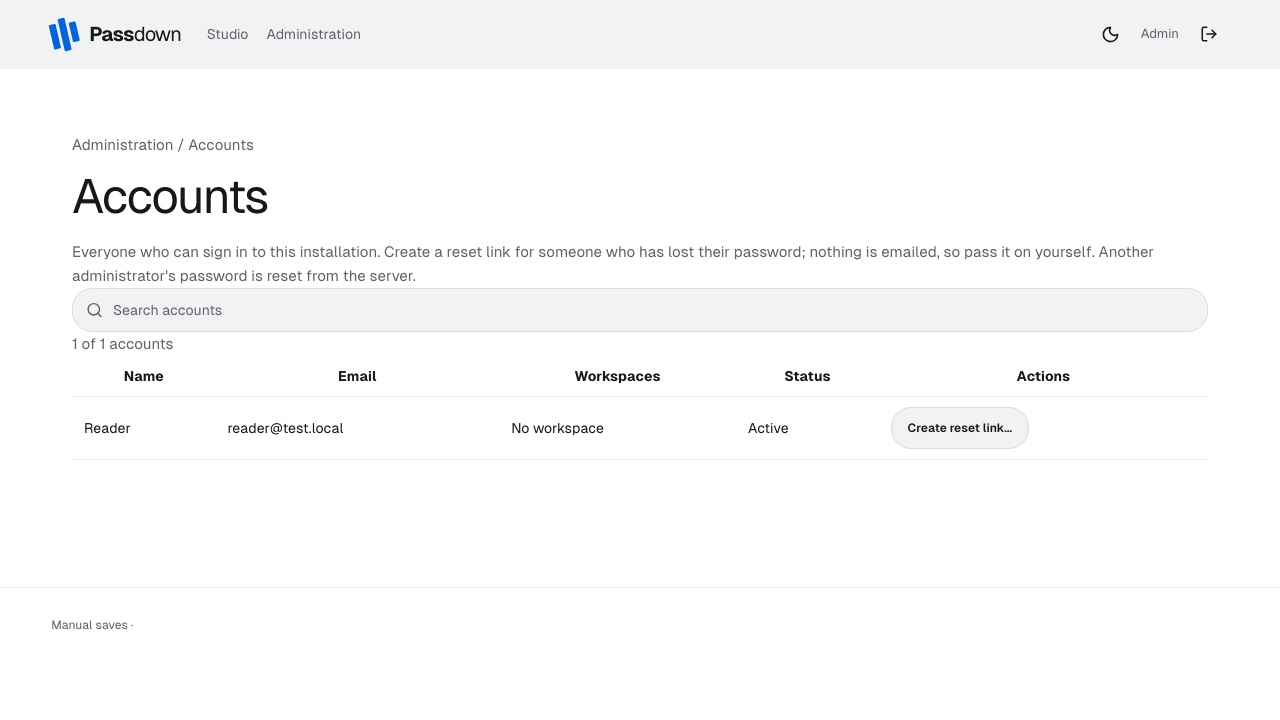
Test: shows a reset link once and removes it when cancelled
The width and height of the screenshot is (1280, 720).
Click the button with aria-label "Create reset link for Reader" at point(960, 428), box [891,407,1029,449]
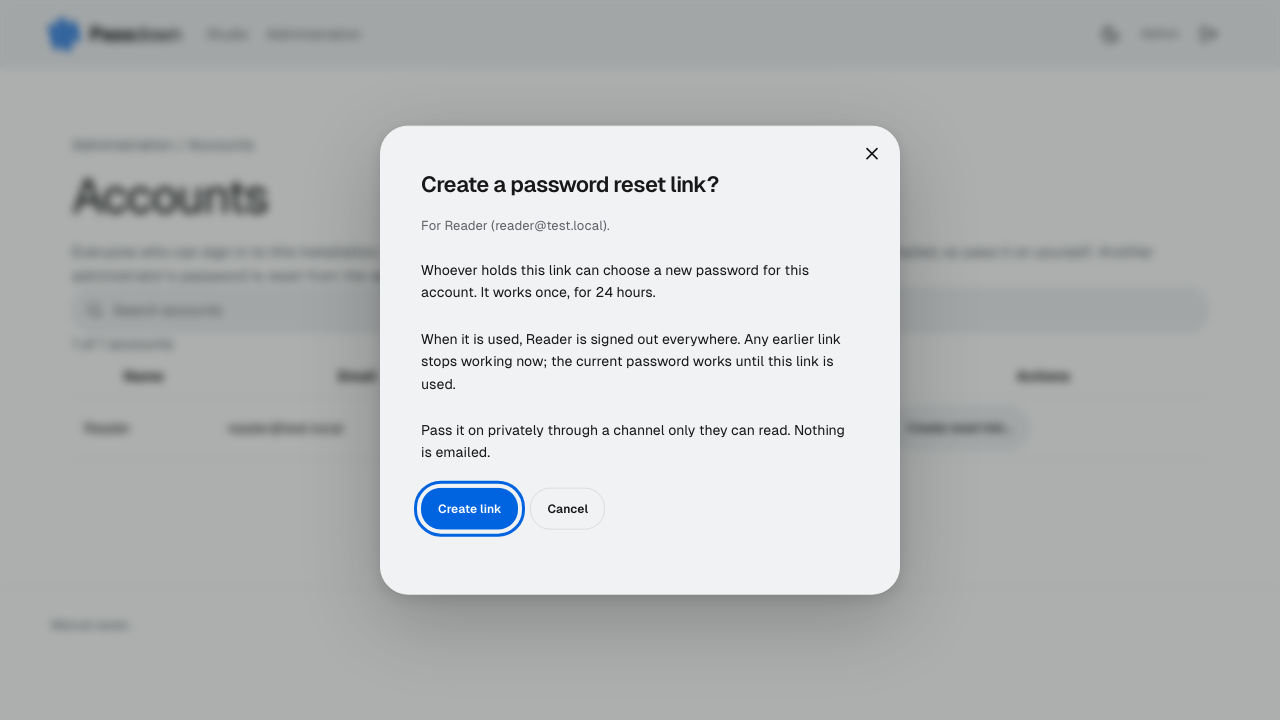
Click the button "Create link" at point(470, 508), box [421,487,518,529]
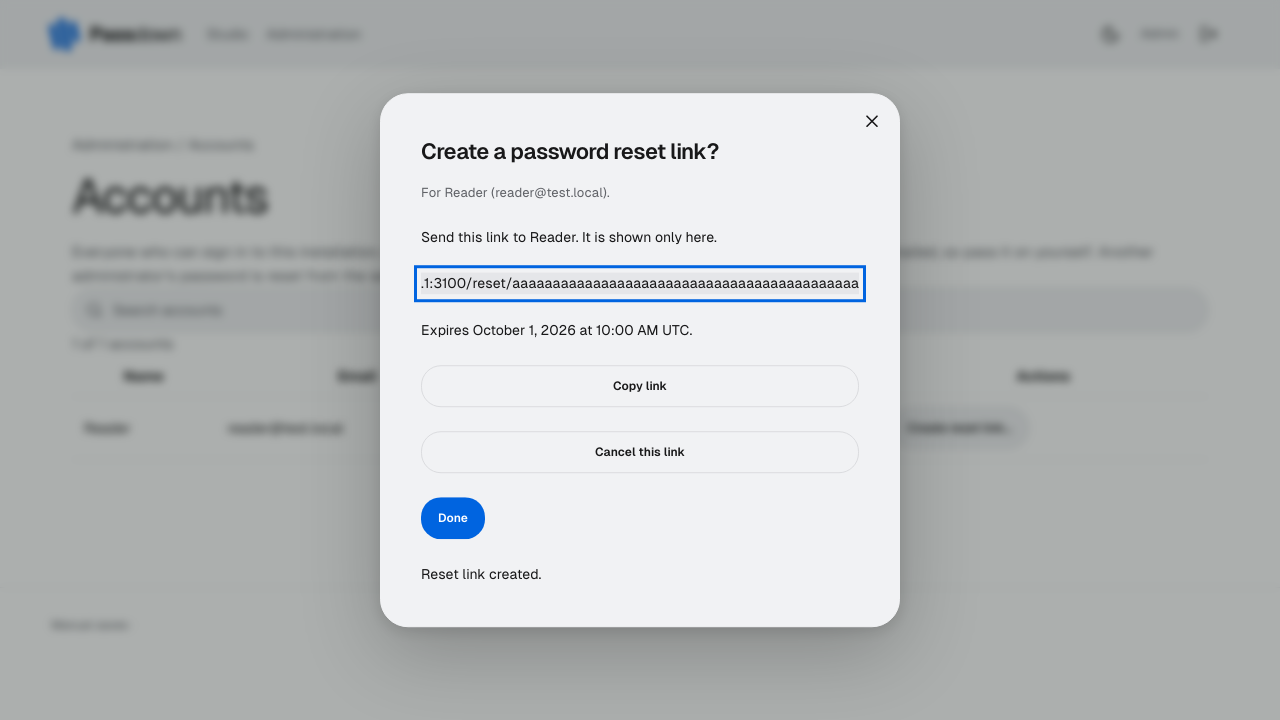
Result: the field named "Reset link for Reader" is shown at [421,273,859,295]
Click the button "Copy link" at point(640, 386), box [421,365,859,407]
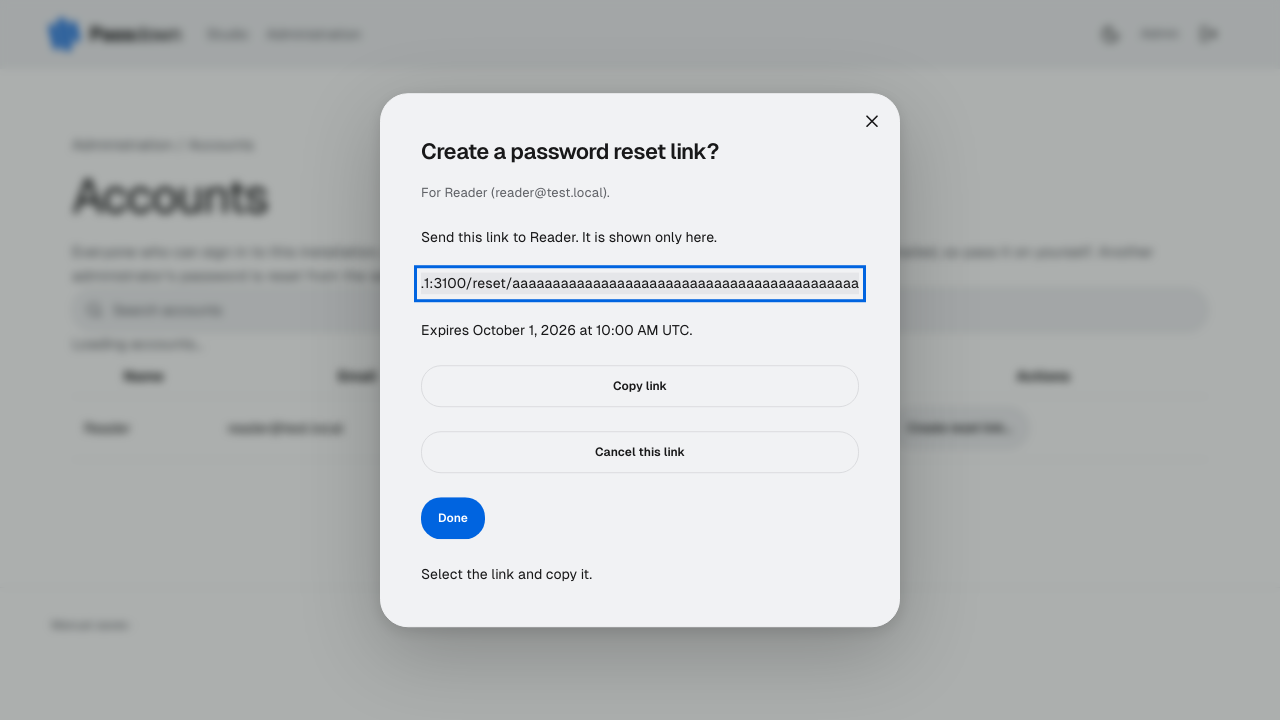
Result: the text "Select the link and copy it." is shown at [421,566,592,582]
Click the button "Cancel this link" at point(640, 452), box [421,431,859,473]
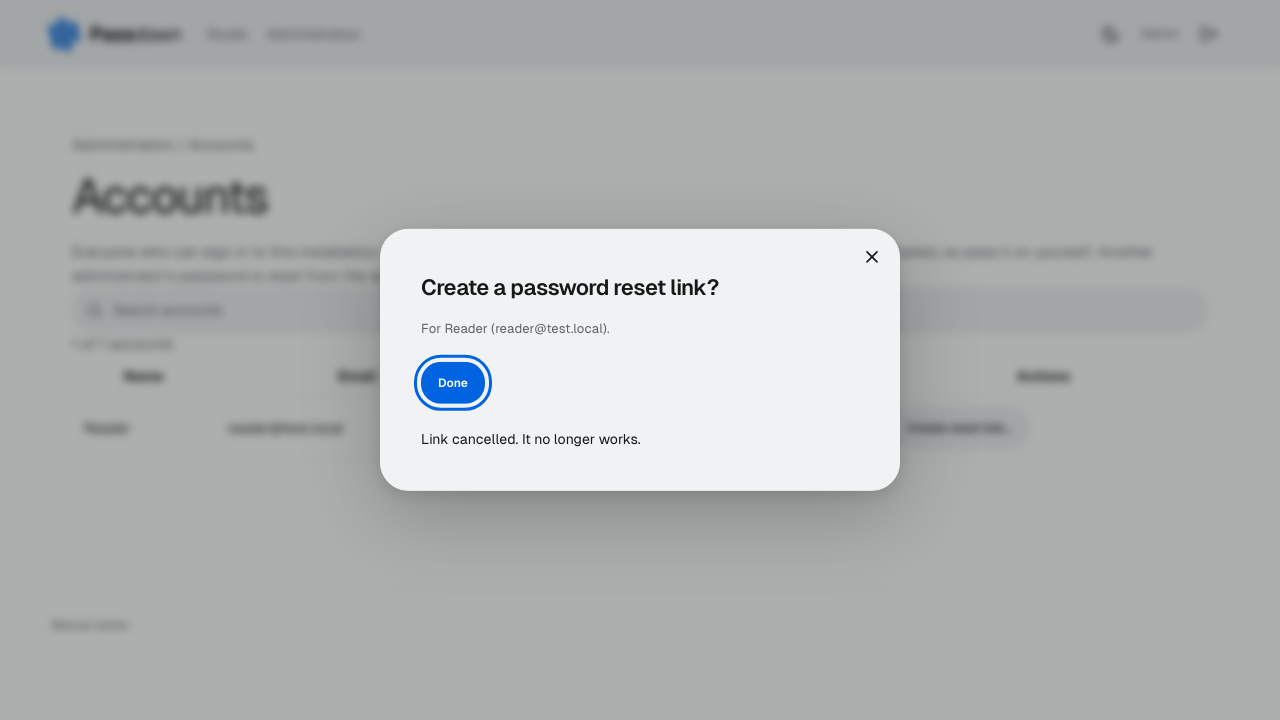
Result: the text "Link cancelled. It no longer works." is shown at [421,431,641,447]
